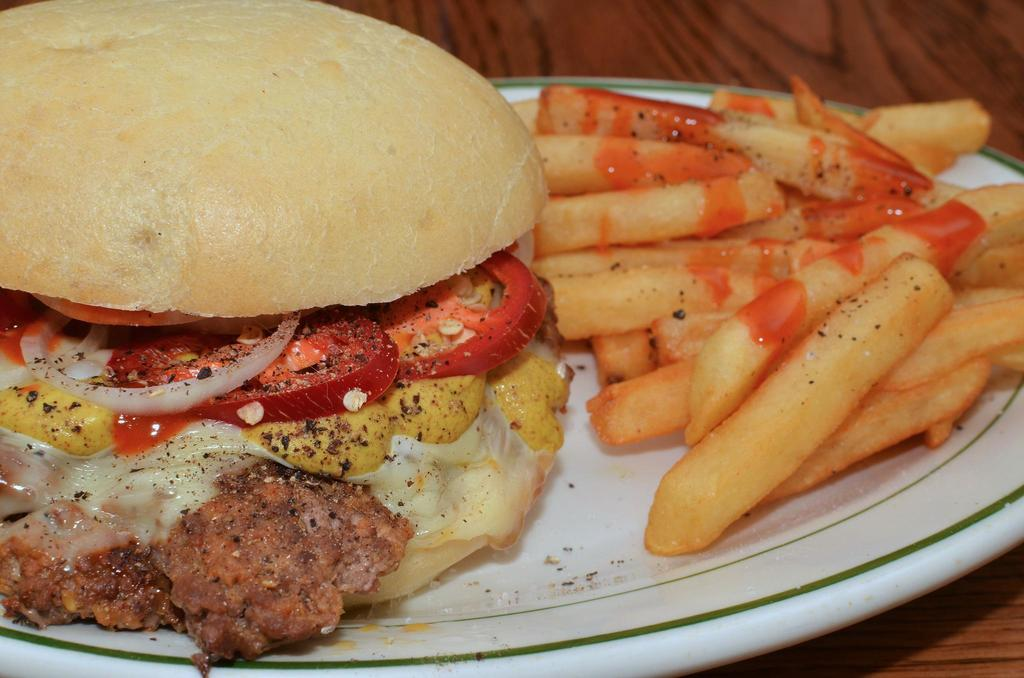French fries: (496, 62, 1023, 558)
